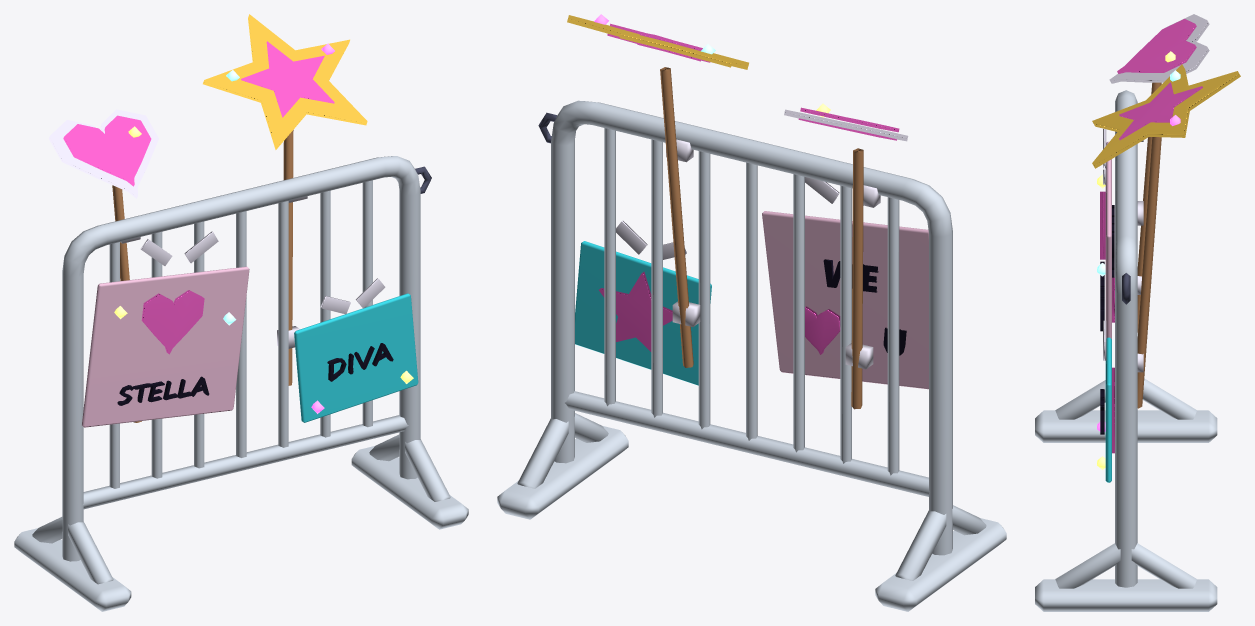
File: fan_barrier.glb
3 renders of one model, left to right at view 1: azimuth 30°, elevation 25°; view 2: azimuth 150°, elevation 25°; view 3: azimuth 270°, elevation 25°, orthographic. The views are drawn at different scales.
Parts seen in each view (by area): view 1: Barrier; view 2: Barrier; view 3: Barrier.
Part boxes in pixels (left/top/right/bottom): Barrier: left=14, top=14, right=468, bottom=611; Barrier: left=497, top=14, right=1006, bottom=611; Barrier: left=1035, top=14, right=1240, bottom=611.
Size of the model in its own units: 1.03 by 1.23 by 0.4742.
